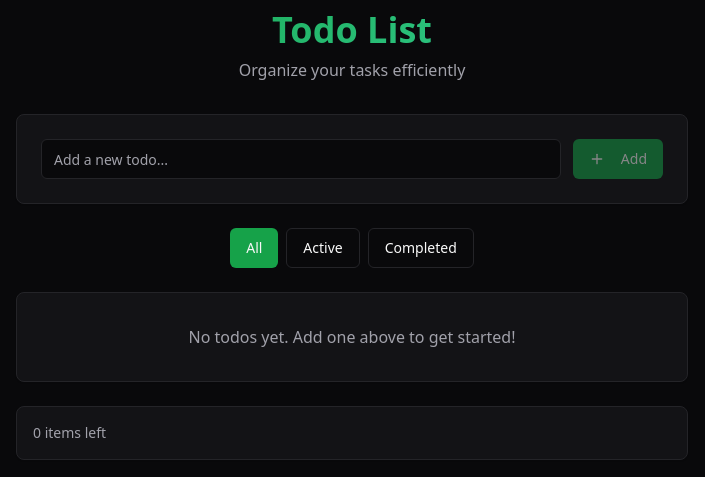
TodoApp › should delete a todo when delete button is clicked
Type "Test todo" into the field with placeholder "Add a new todo..." at (301, 159), box x1=41 y1=139 x2=561 y2=179
Then press Enter
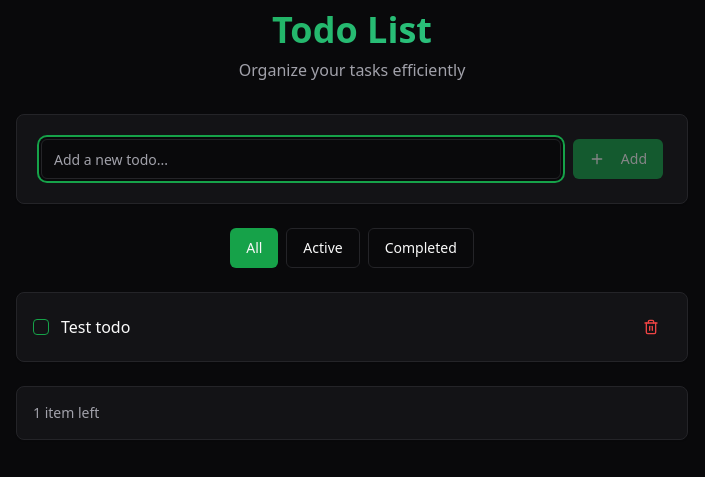
Expected: the text "Test todo" is shown, x1=61 y1=316 x2=130 y2=338
Click the button named "delete" at (651, 327), box x1=631 y1=309 x2=671 y2=345
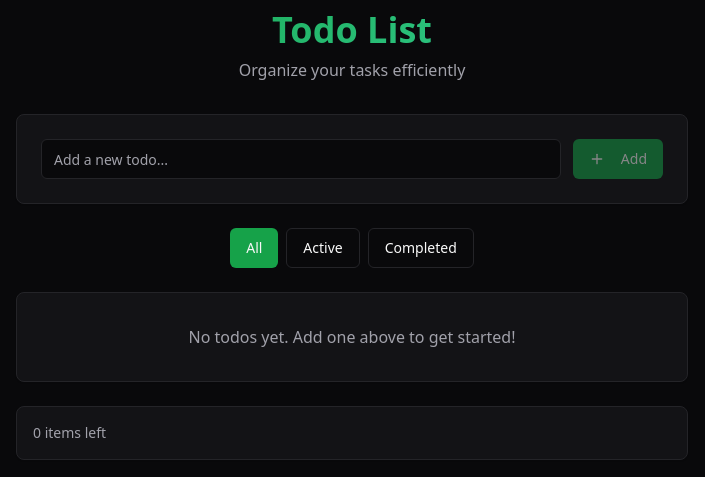
Expected: the text "Test todo" is gone
